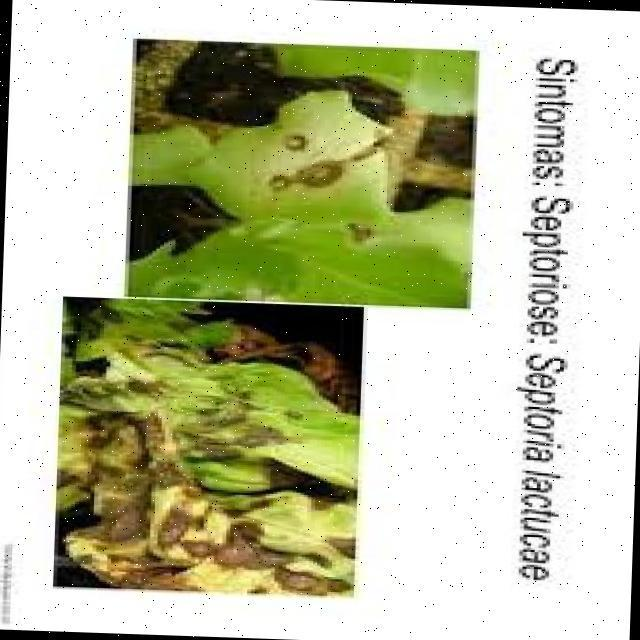Septoria_Blight: (72, 355, 330, 590), (203, 97, 409, 228)
